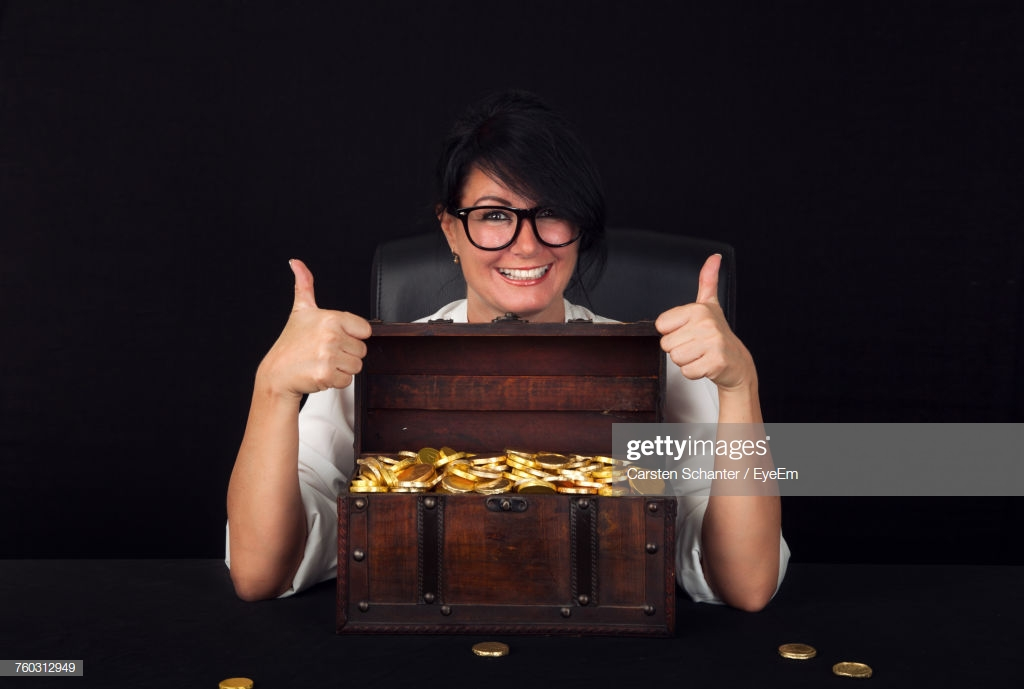thumbsup: (287, 256, 373, 388), (655, 252, 724, 380)
